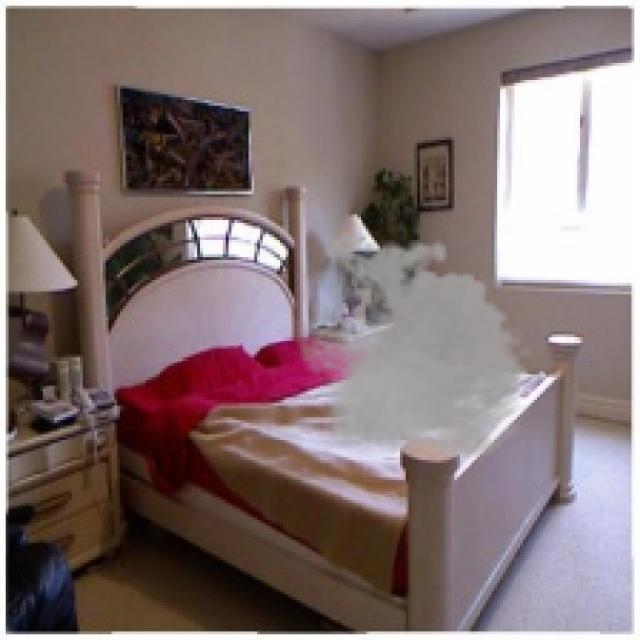smoke: (283, 226, 540, 468)
